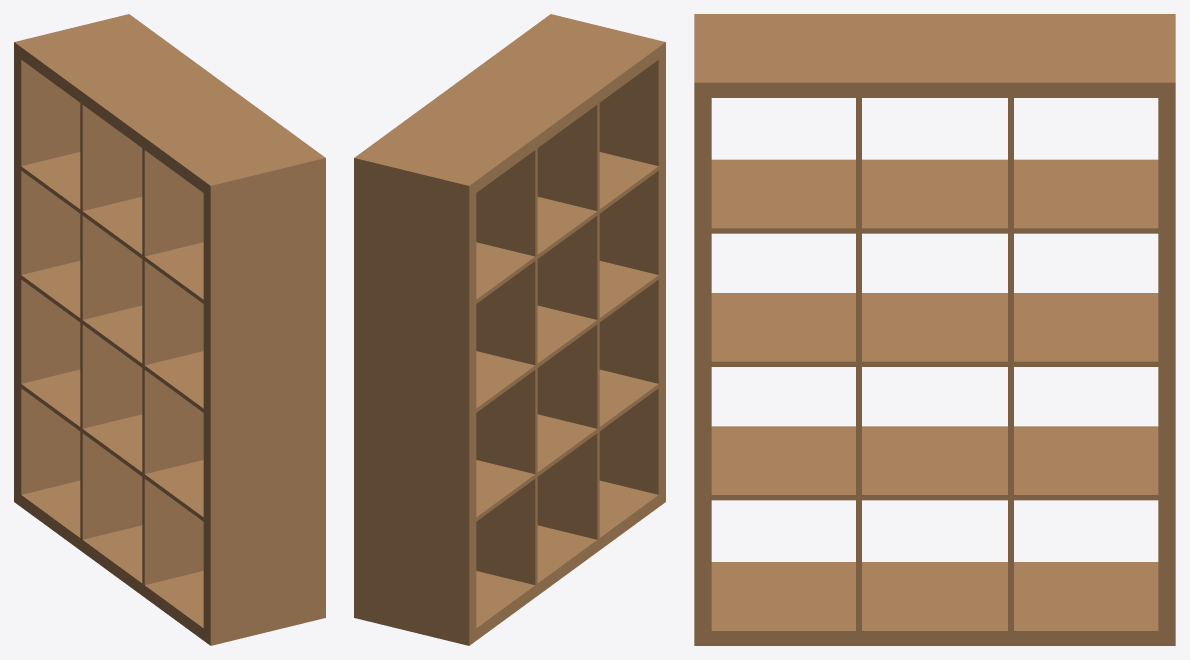
Rendered from shelfA.fbx.
3 renders of one model, left to right at view 1: azimuth 30°, elevation 25°; view 2: azimuth 150°, elevation 25°; view 3: azimuth 270°, elevation 25°, orthographic. The views are drawn at different scales.
Visible parts, largest first — view 1: shelfA; view 2: shelfA; view 3: shelfA.
Part boxes in pixels (<box>): shelfA: <box>14,14,325,645</box>; shelfA: <box>354,14,665,645</box>; shelfA: <box>694,14,1175,645</box>.
Bounding box in the file's own units: 0.3533 × 1.35 × 1.05.
